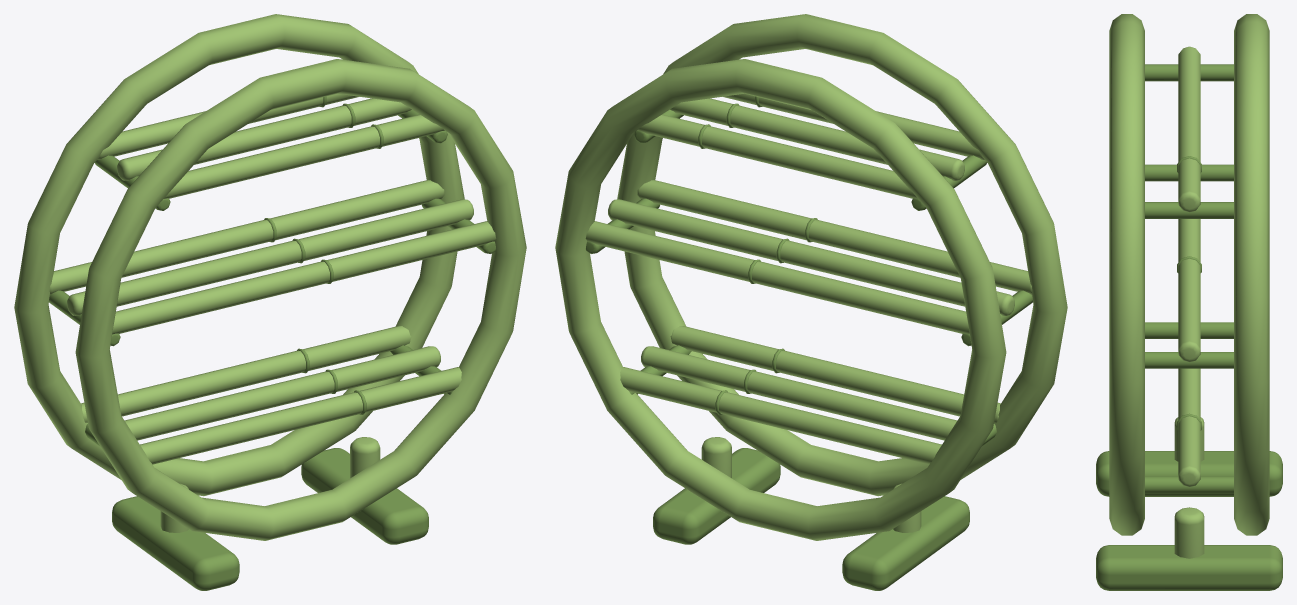
File: bamboo_ring_shelf.glb
3 views of the same model, side by side, from view 1: azimuth 30°, elevation 25°; view 2: azimuth 150°, elevation 25°; view 3: azimuth 270°, elevation 25° (orthographic).
Visible parts, largest first — view 1: bamboo_ring_shelf_mesh; view 2: bamboo_ring_shelf_mesh; view 3: bamboo_ring_shelf_mesh.
Part boxes in pixels (left/top/right/bottom): bamboo_ring_shelf_mesh: left=14, top=14, right=526, bottom=590; bamboo_ring_shelf_mesh: left=555, top=14, right=1067, bottom=590; bamboo_ring_shelf_mesh: left=1096, top=14, right=1282, bottom=590.
Bounding box in the file's own units: 1.18 × 1.23 × 0.42.
